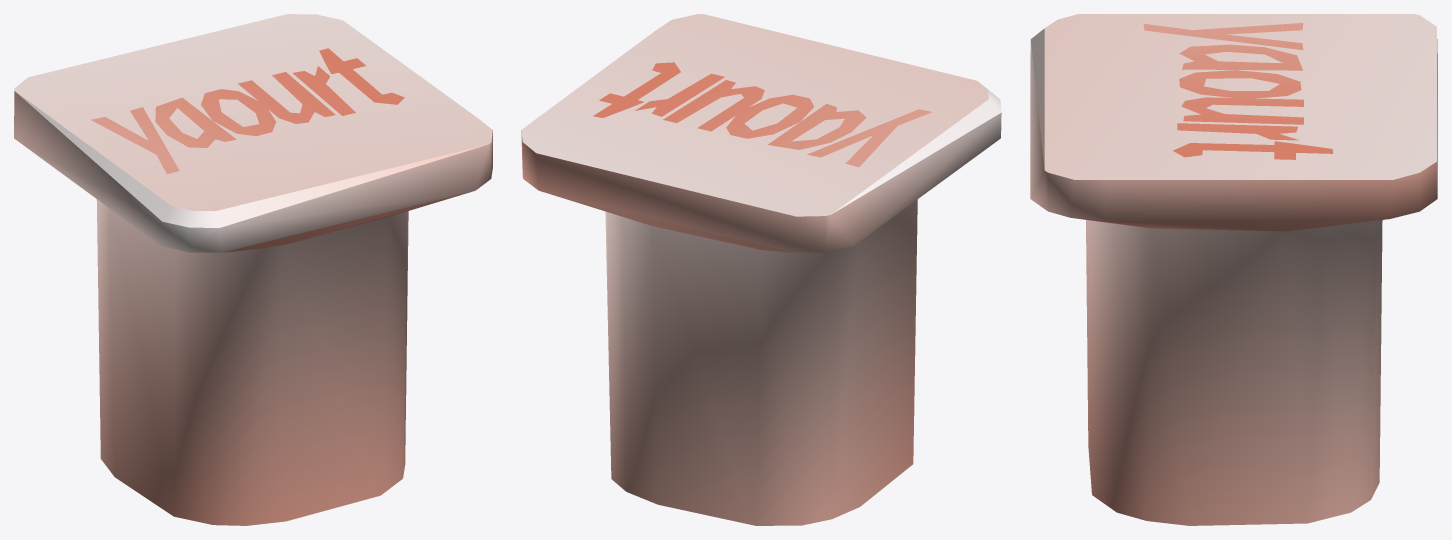
File: yaourt_001.glb
3 renders of one model, left to right at view 1: azimuth 30°, elevation 25°; view 2: azimuth 150°, elevation 25°; view 3: azimuth 270°, elevation 25°, orthographic. The views are drawn at different scales.
Parts seen in each view (by area): view 1: yaourt.001; view 2: yaourt.001; view 3: yaourt.001.
Boxes of the visible parts, box(x1,y1,x2,y2) form: yaourt.001: box(14, 14, 492, 525); yaourt.001: box(521, 14, 1001, 525); yaourt.001: box(1030, 14, 1437, 525).
Size of the model in its own units: 0.3297 by 0.3314 by 0.3273.
1 material, 1 textured.
